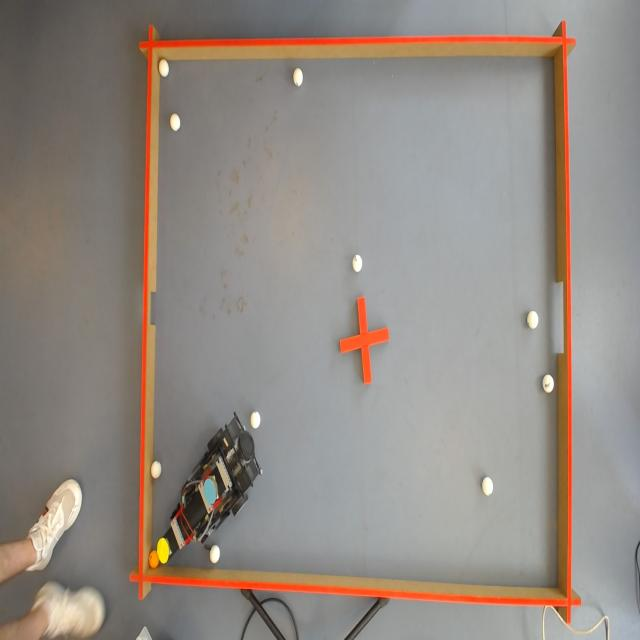orange: (148, 549, 160, 569)
robot: (157, 420, 202, 568)
robot-front: (156, 538, 170, 564)
robot-rear: (202, 472, 216, 504)
white: (158, 59, 171, 78), (482, 476, 494, 496), (210, 545, 222, 564), (527, 308, 539, 327), (250, 411, 262, 429), (542, 372, 554, 390), (352, 254, 364, 272), (169, 115, 182, 131), (294, 66, 304, 84), (153, 461, 163, 479)
